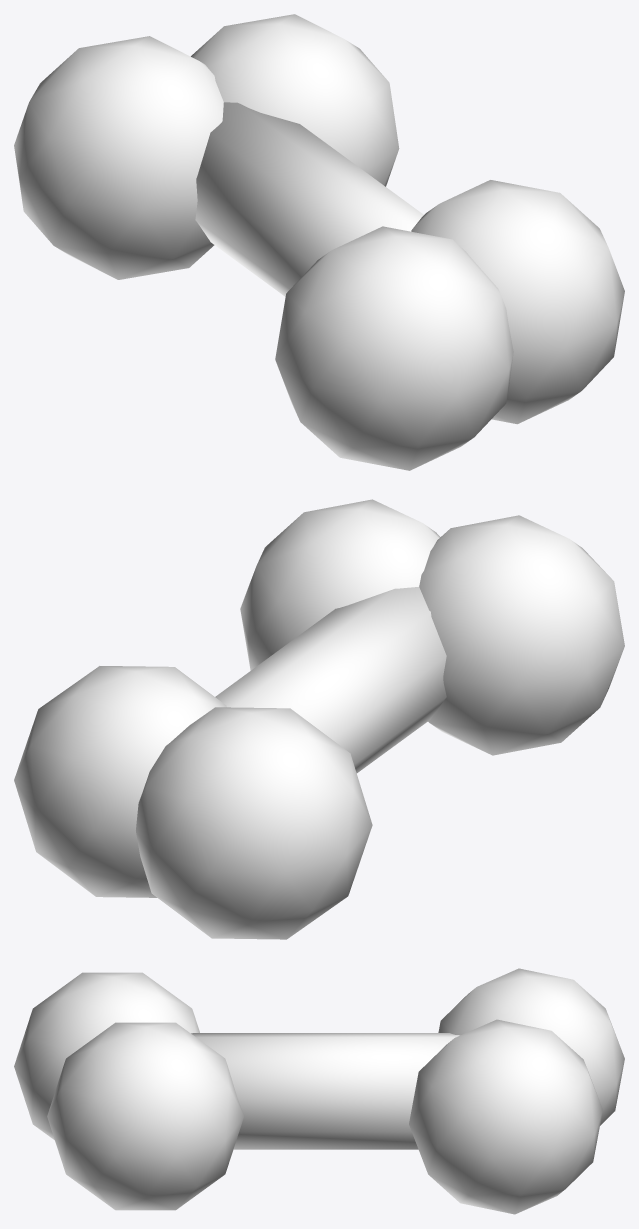
Rendered from Bones002.fbx.
3 renders of one model, top to bottom at view 1: azimuth 30°, elevation 25°; view 2: azimuth 150°, elevation 25°; view 3: azimuth 270°, elevation 25°, orthographic. The views are drawn at different scales.
Visible parts, largest first — view 1: Bones002; view 2: Bones002; view 3: Bones002.
Boxes of the visible parts, x1,y1,x2,y2 form: Bones002: (14,14,624,470); Bones002: (14,499,624,939); Bones002: (14,968,624,1214).
Bounding box in the file's own units: 61.88 × 38.6 × 120.
